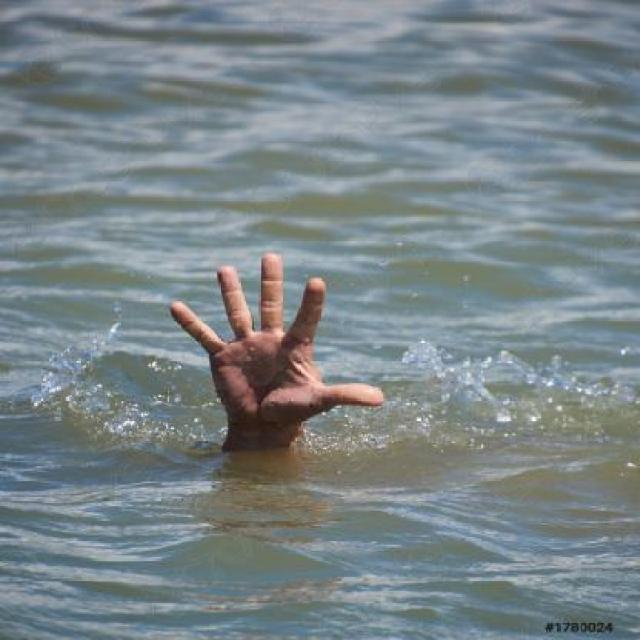no_apron: (154, 234, 380, 441)
